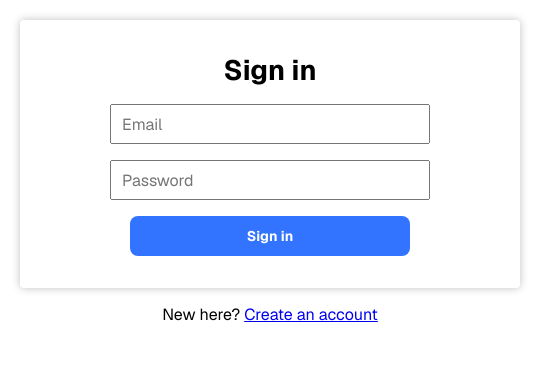
it: SignInForm › should handle API errors correctly
This screenshot has width=541, height=371.
Expected: the text "Sign in" is shown, [223, 52, 317, 88]
Expected: the password field with placeholder "Password" is shown, [110, 160, 430, 200]
Type "user@domain.com" into the field with placeholder "Email" at coordinates (270, 124), box [110, 104, 430, 144]
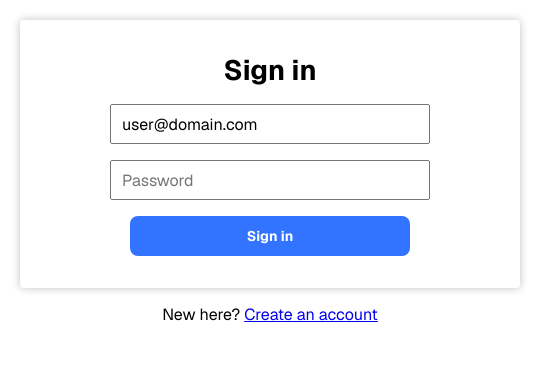
Type "Secret@123" into the password field with placeholder "Password" at coordinates (270, 180), box [110, 160, 430, 200]
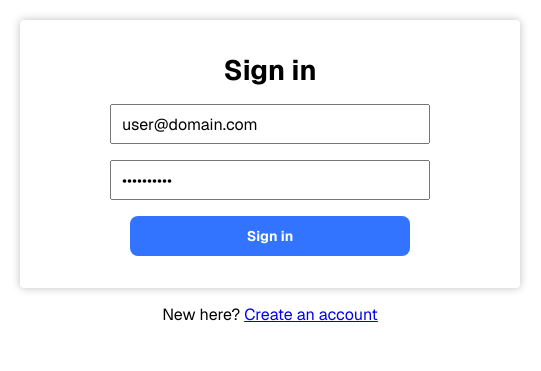
Click the button "Sign in" at coordinates (270, 236), box [130, 216, 410, 256]
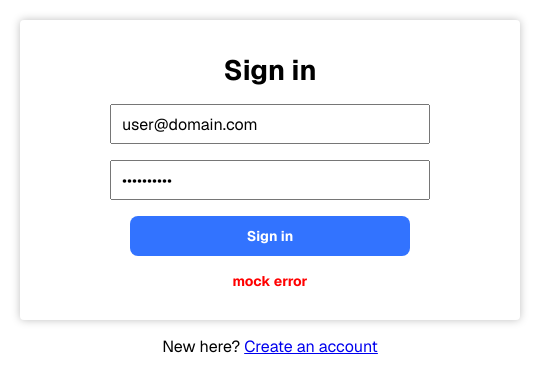
Expected: the text "mock error" is shown, [232, 272, 308, 290]
